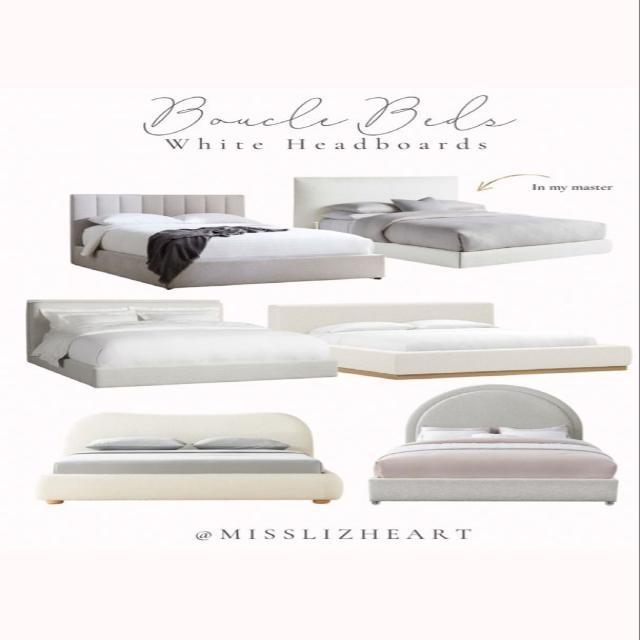obstacle: (367, 383, 619, 505), (68, 193, 384, 290), (292, 175, 612, 268), (268, 300, 632, 380), (34, 410, 343, 504), (25, 298, 338, 388)
